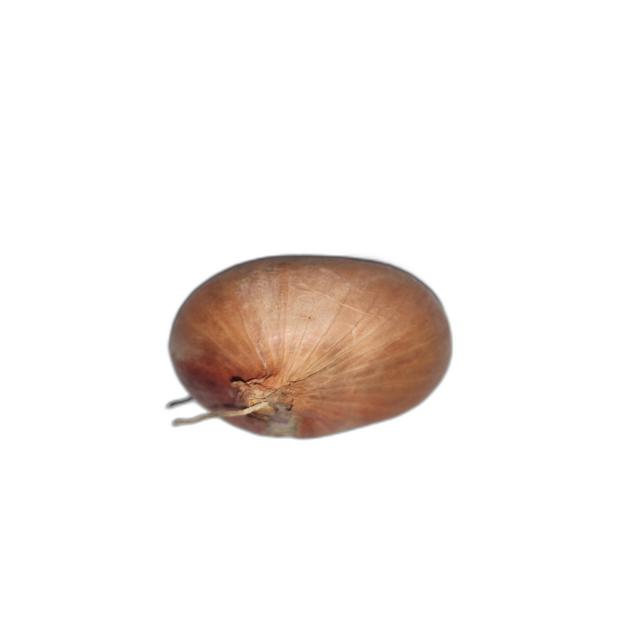onion: (162, 252, 458, 440)
